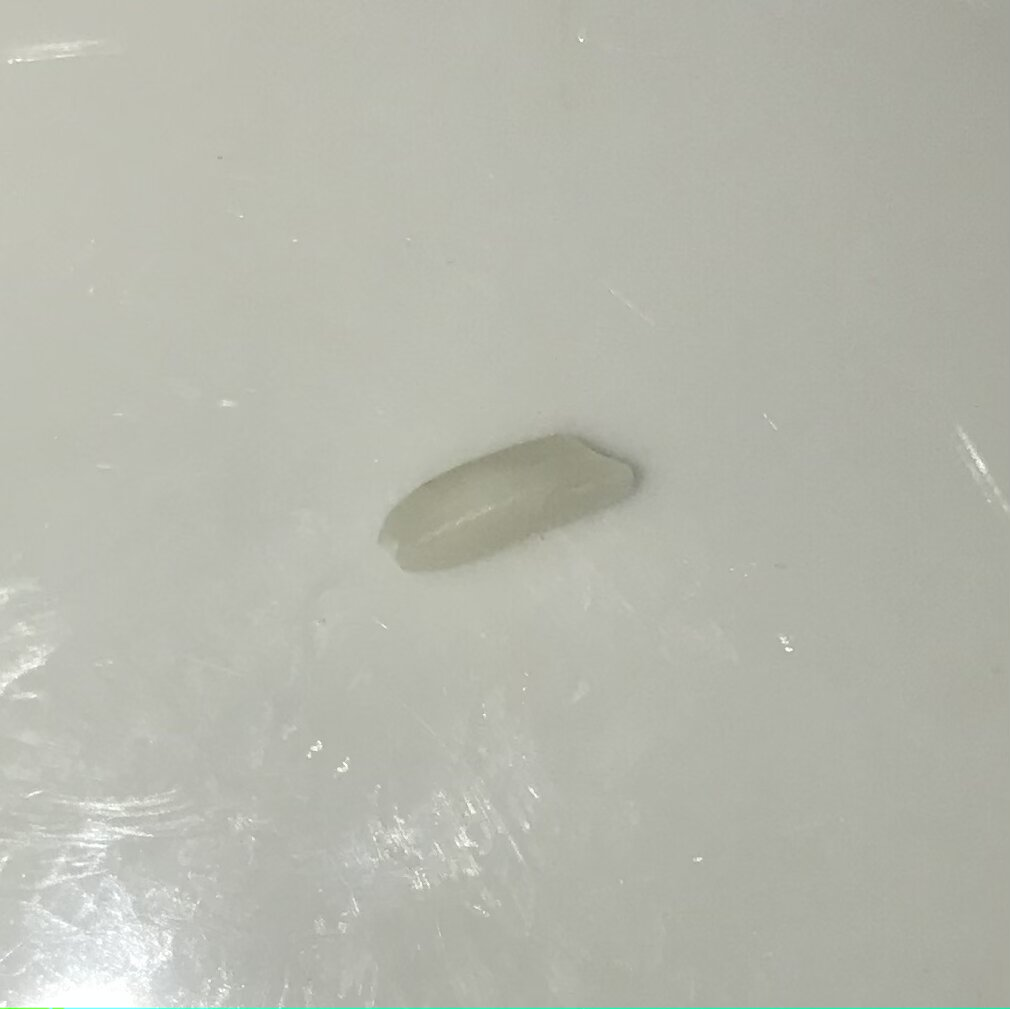Gao Lai Sua: (380, 418, 643, 581)
